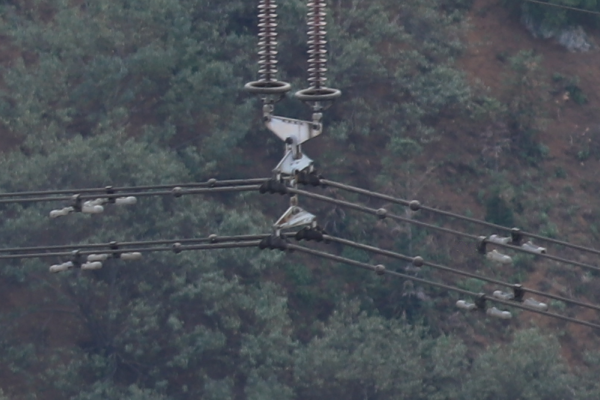damper: (487, 223, 549, 254), (453, 292, 513, 321), (491, 282, 549, 311), (47, 192, 105, 219), (45, 249, 103, 274), (82, 182, 137, 206), (87, 239, 140, 262)
damper_defect: (467, 234, 513, 265)
